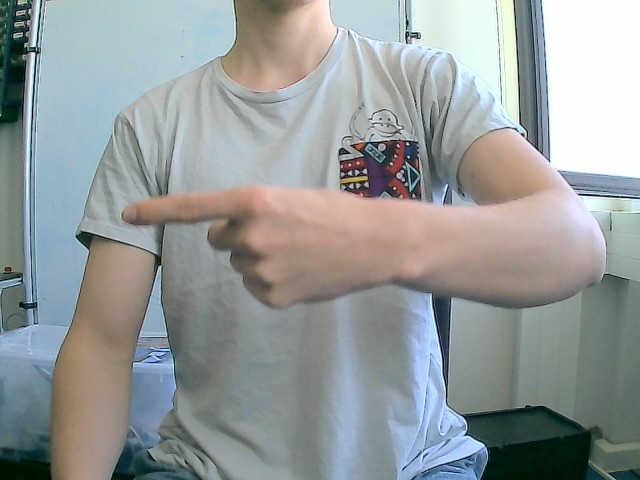right: (120, 183, 397, 311)
